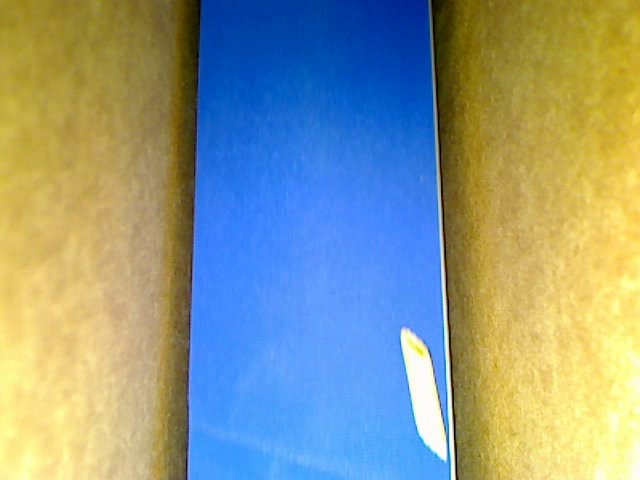penne: (400, 327, 448, 460)
